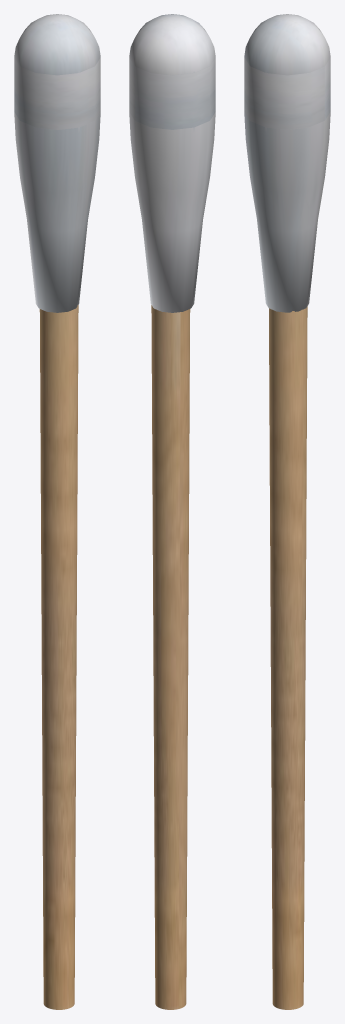
The picture shows the model from 3 angles, left to right: view 1: azimuth 30°, elevation 25°; view 2: azimuth 210°, elevation 25°; view 3: azimuth 330°, elevation 25°; orthographic projection.
Parts seen in each view (by area): view 1: Cone001, Capsule002; view 2: Cone001, Capsule002; view 3: Cone001, Capsule002.
Part boxes in pixels (left/top/right/bottom): Cone001: left=39, top=305, right=78, bottom=1009; Capsule002: left=14, top=14, right=100, bottom=312; Cone001: left=151, top=305, right=190, bottom=1009; Capsule002: left=129, top=14, right=215, bottom=312; Cone001: left=269, top=306, right=307, bottom=1009; Capsule002: left=244, top=14, right=330, bottom=312.
Bounding box in the file's own units: 2.23 × 28.02 × 2.23.
2 materials, 2 textured.
